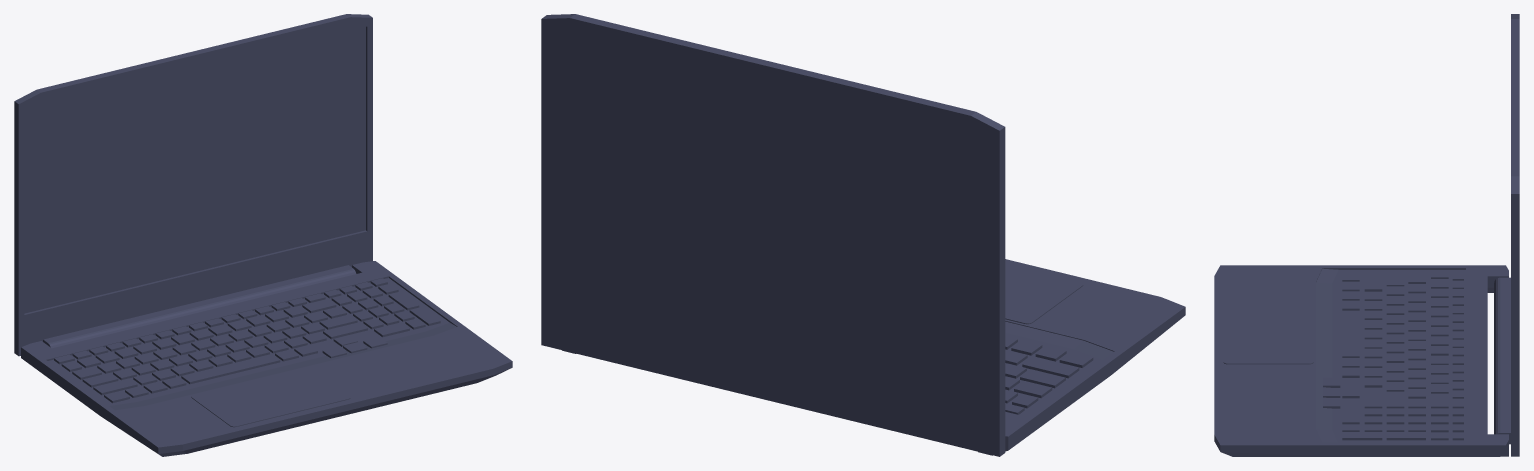
Rendered from laptop.glb.
3 renders of one model, left to right at view 1: azimuth 30°, elevation 25°; view 2: azimuth 150°, elevation 25°; view 3: azimuth 270°, elevation 25°, orthographic. The views are drawn at different scales.
Visible parts, largest first — view 1: board, mousepad; view 2: board, mousepad; view 3: board, mousepad.
Part boxes in pixels (x1,y1,x2,y2): board: (14,14,512,456); mousepad: (43,265,440,427); board: (541,14,1185,456); mousepad: (1005,264,1093,414); board: (1214,14,1519,456); mousepad: (1223,271,1510,444).
Size of the model in its own units: 6.82 by 4.85 by 4.89.
